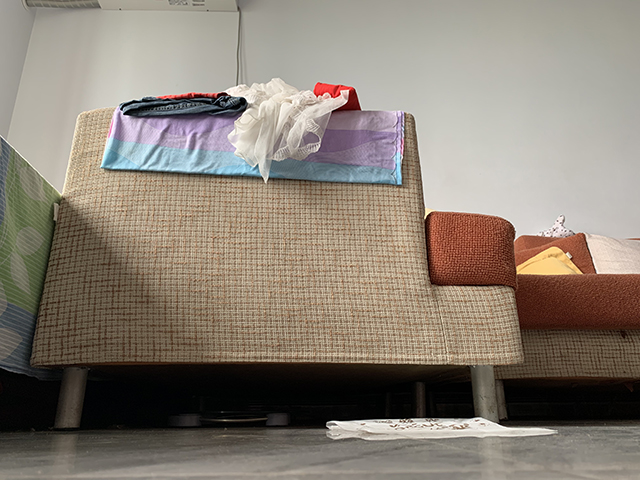sofa: (36, 103, 524, 430), (516, 235, 640, 382)
